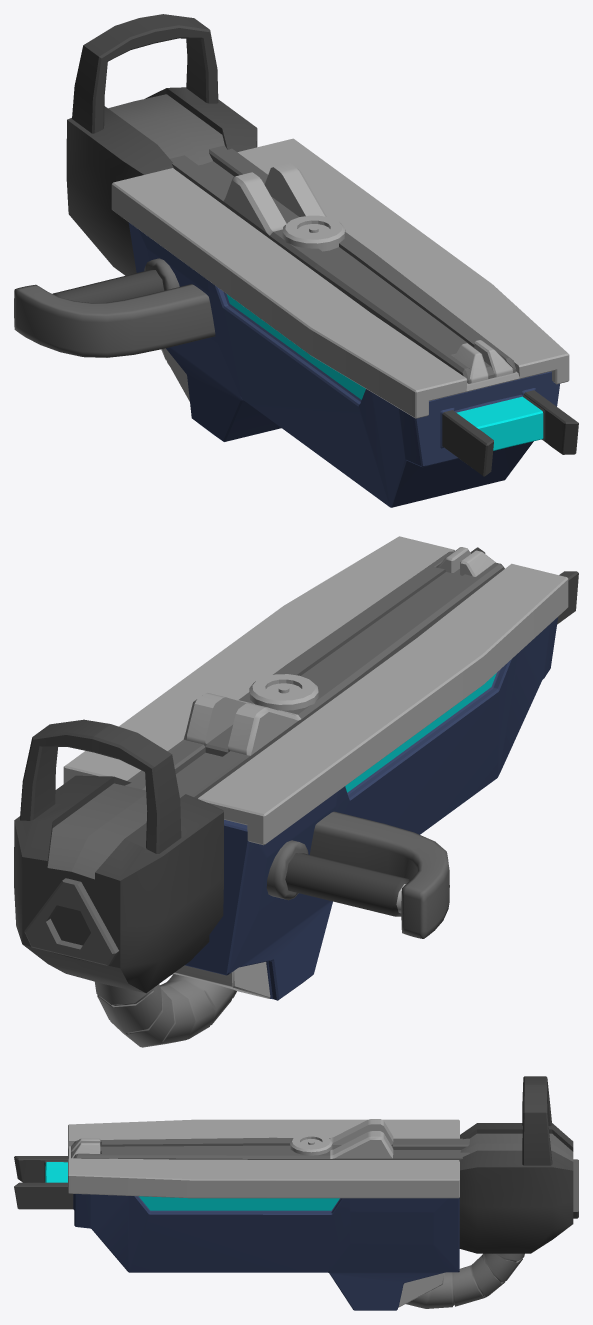
File: gun_model.fbx
3 renders of one model, top to bottom at view 1: azimuth 30°, elevation 25°; view 2: azimuth 150°, elevation 25°; view 3: azimuth 270°, elevation 25°, orthographic. The views are drawn at different scales.
Visible parts, largest first — view 1: pCube10, pCube11, pCube12, pCube30, pCube6, pCylinder2, pCylinder4, pCube31; view 2: pCube10, pCube12, pCube11, pCube30, pCube6, pCylinder1, pCylinder2, pCube15, pCylinder4, pCylinder3, pCube31; view 3: pCube11, pCube10, pCube12, pCube30, pCylinder1, pCylinder4, pCube31, pCube15.
Part boxes in pixels (<box>): pCube10: <box>111,138,569,418</box>; pCube11: <box>128,222,578,507</box>; pCube12: <box>66,14,257,275</box>; pCube30: <box>170,145,516,383</box>; pCube6: <box>14,284,215,357</box>; pCylinder2: <box>53,270,164,302</box>; pCylinder4: <box>282,215,345,251</box>; pCube31: <box>454,340,512,383</box>; pCube10: <box>63,536,568,845</box>; pCube12: <box>14,719,223,993</box>; pCube11: <box>171,547,578,1000</box>; pCube30: <box>125,551,504,798</box>; pCube6: <box>310,811,449,938</box>; pCylinder1: <box>95,974,236,1047</box>; pCylinder2: <box>285,853,409,916</box>; pCube15: <box>24,878,118,965</box>; pCylinder4: <box>249,674,318,710</box>; pCylinder3: <box>266,840,308,900</box>; pCube31: <box>437,547,495,576</box>; pCube11: <box>14,1156,459,1310</box>; pCube10: <box>68,1119,459,1198</box>; pCube12: <box>459,1076,573,1253</box>; pCube30: <box>71,1119,469,1160</box>; pCylinder1: <box>406,1253,524,1308</box>; pCylinder4: <box>290,1133,332,1155</box>; pCube31: <box>71,1138,100,1158</box>; pCube15: <box>573,1159,578,1218</box>.
Size of the model in its own units: 44.19 by 45.91 by 105.
